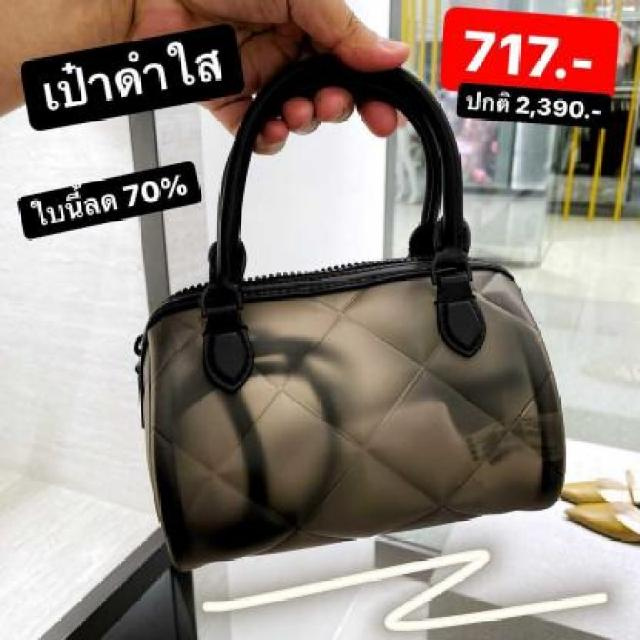Bag: (106, 33, 579, 584)
